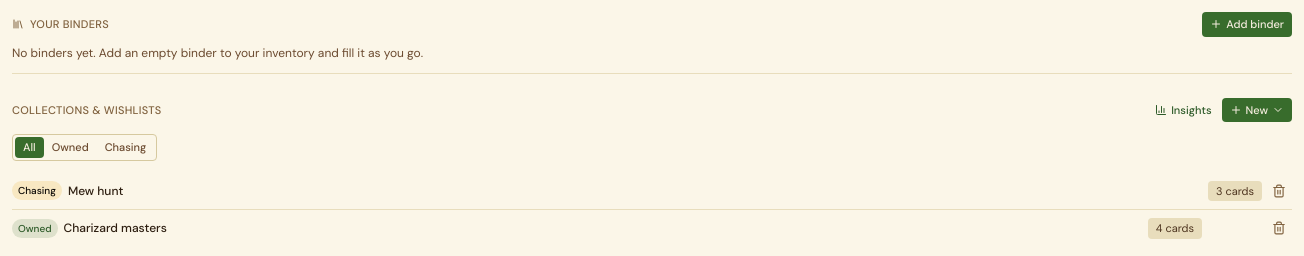
LibraryBindersTab › filters to chasing binders only
Expected: the text "Charizard masters" is shown, [64, 220, 167, 236]
Click the radio button labelled "Chasing".
click(126, 147)  # box [97, 137, 154, 158]
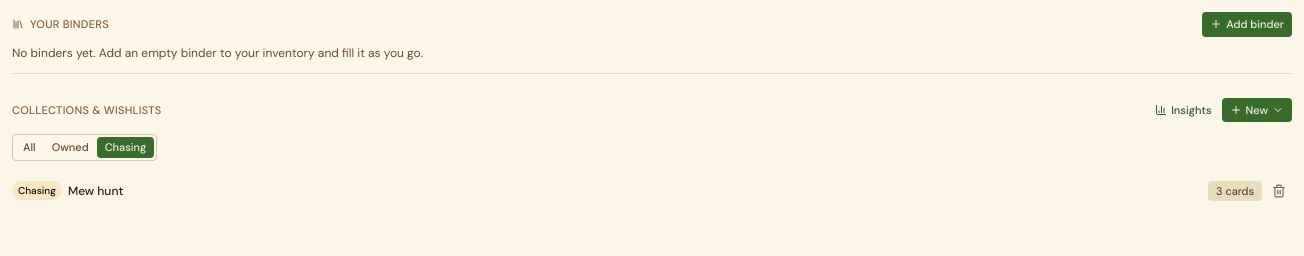
Expected: the text "Mew hunt" is shown, [68, 183, 123, 199]
Expected: the button "Charizard masters" is gone
